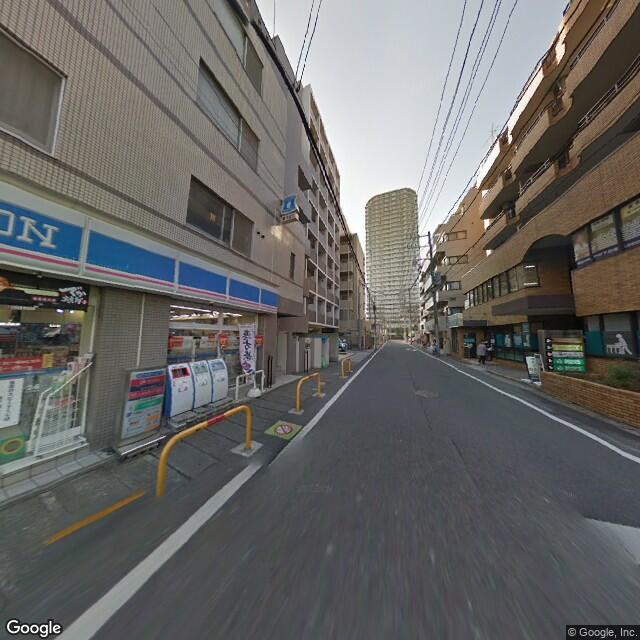lawson: (1, 172, 271, 312), (280, 191, 304, 214)
